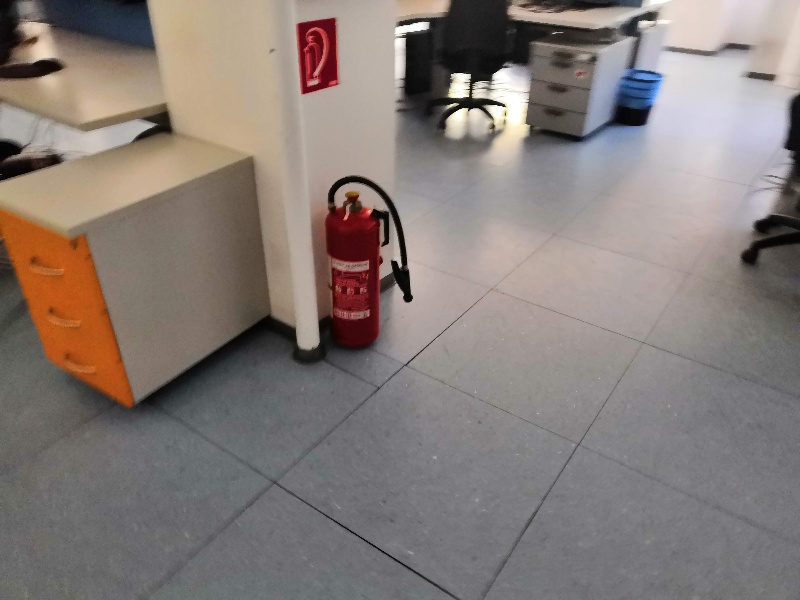vataparat: (325, 177, 412, 347)
